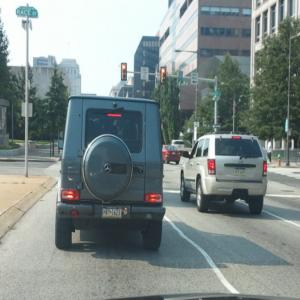Vehicle-registration-plate: (103, 206, 123, 220), (238, 169, 247, 177)
